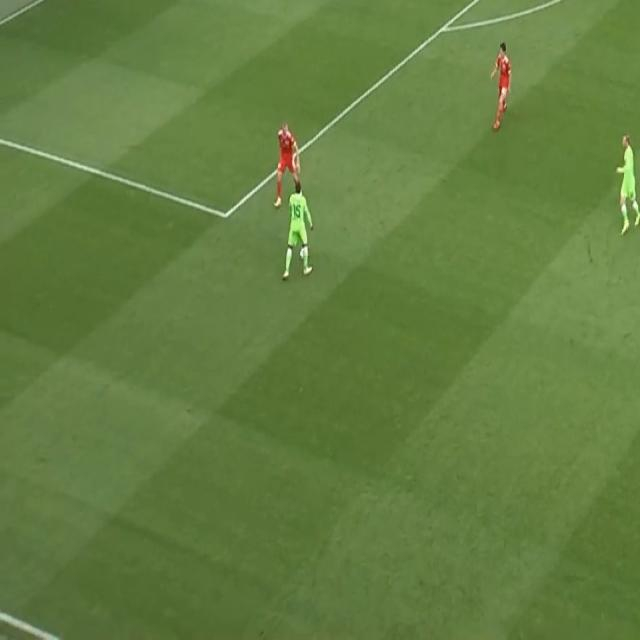ball: (299, 245, 310, 262)
